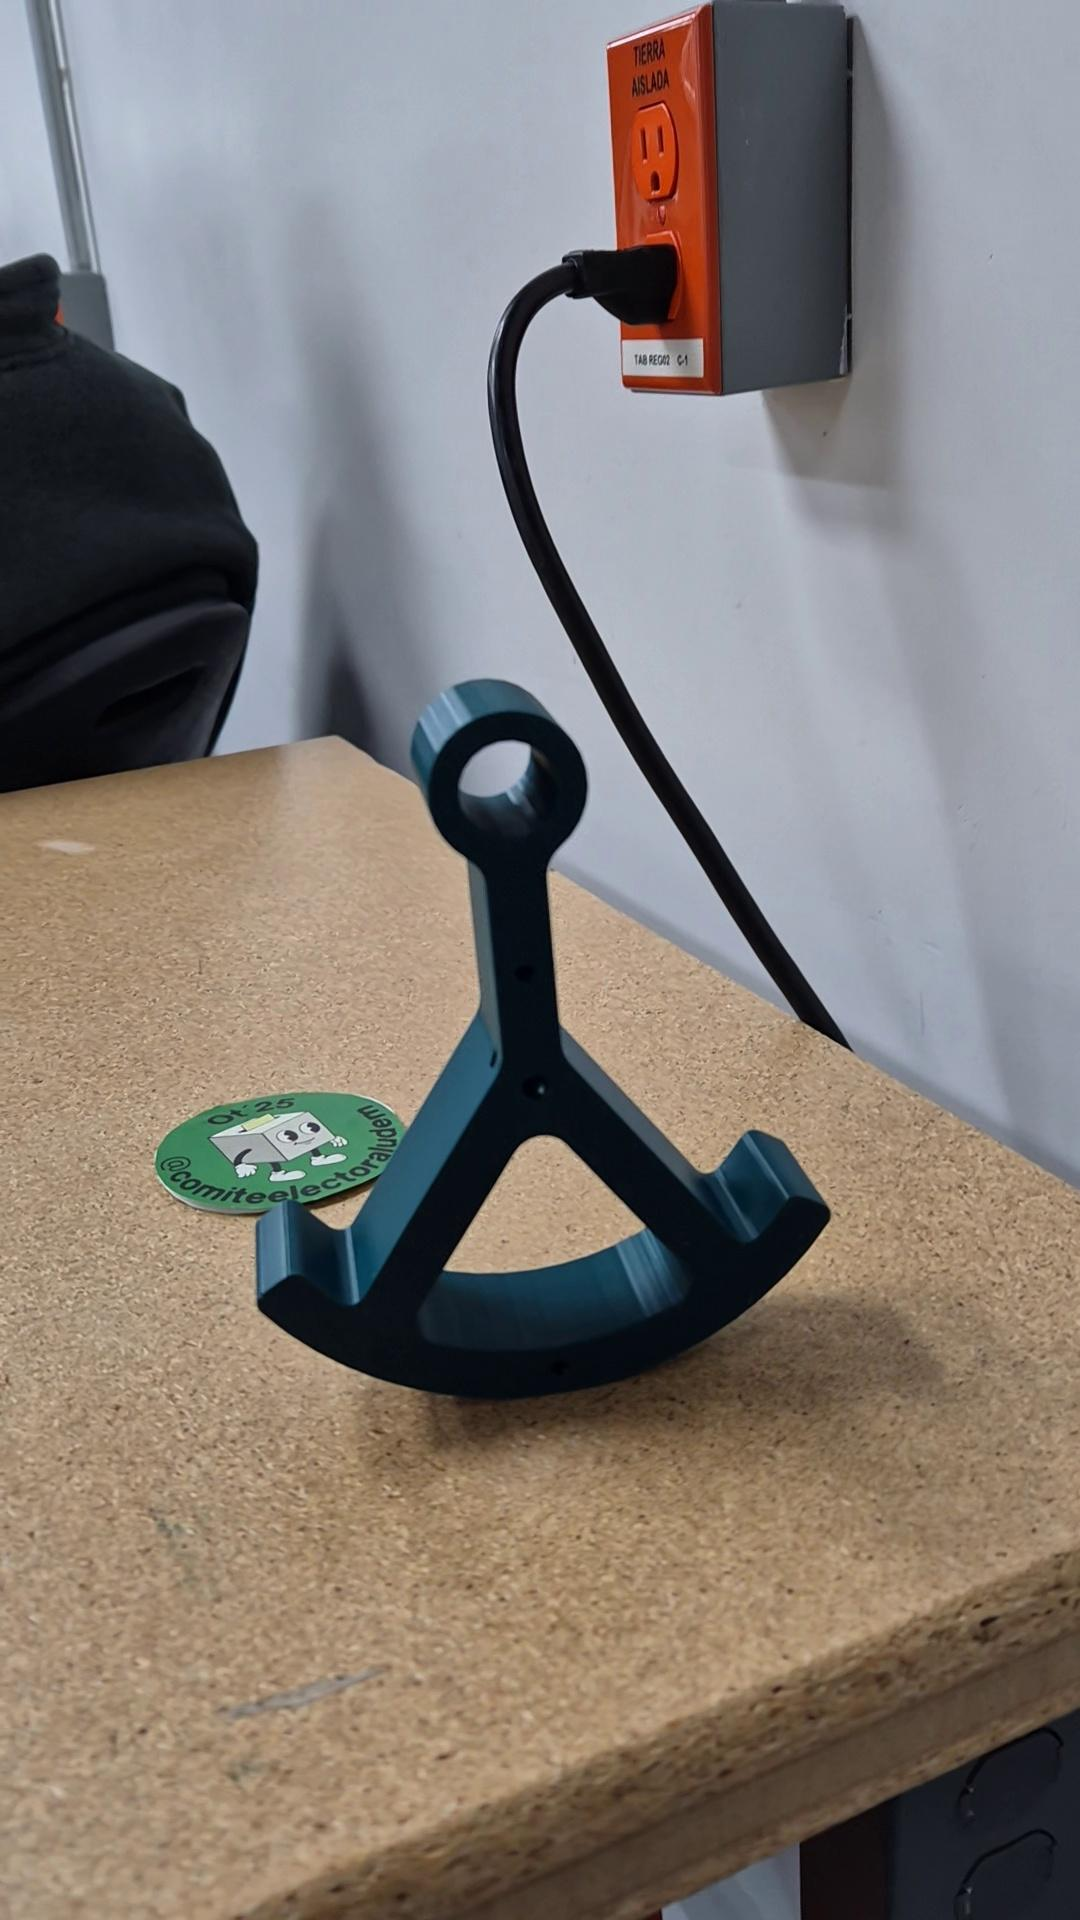Paddles: (250, 673, 838, 1404)
